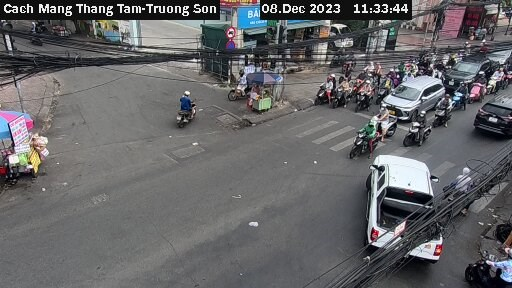car: (362, 149, 448, 264), (380, 74, 446, 121), (473, 91, 512, 136), (446, 54, 492, 89), (484, 39, 512, 72)
motorbike: (461, 239, 512, 286), (168, 91, 207, 133), (349, 121, 386, 165), (369, 101, 400, 143), (405, 111, 435, 147), (306, 75, 337, 103), (327, 77, 352, 109), (432, 94, 456, 127), (354, 79, 377, 112), (449, 82, 471, 114), (470, 74, 487, 102), (489, 68, 503, 95)
